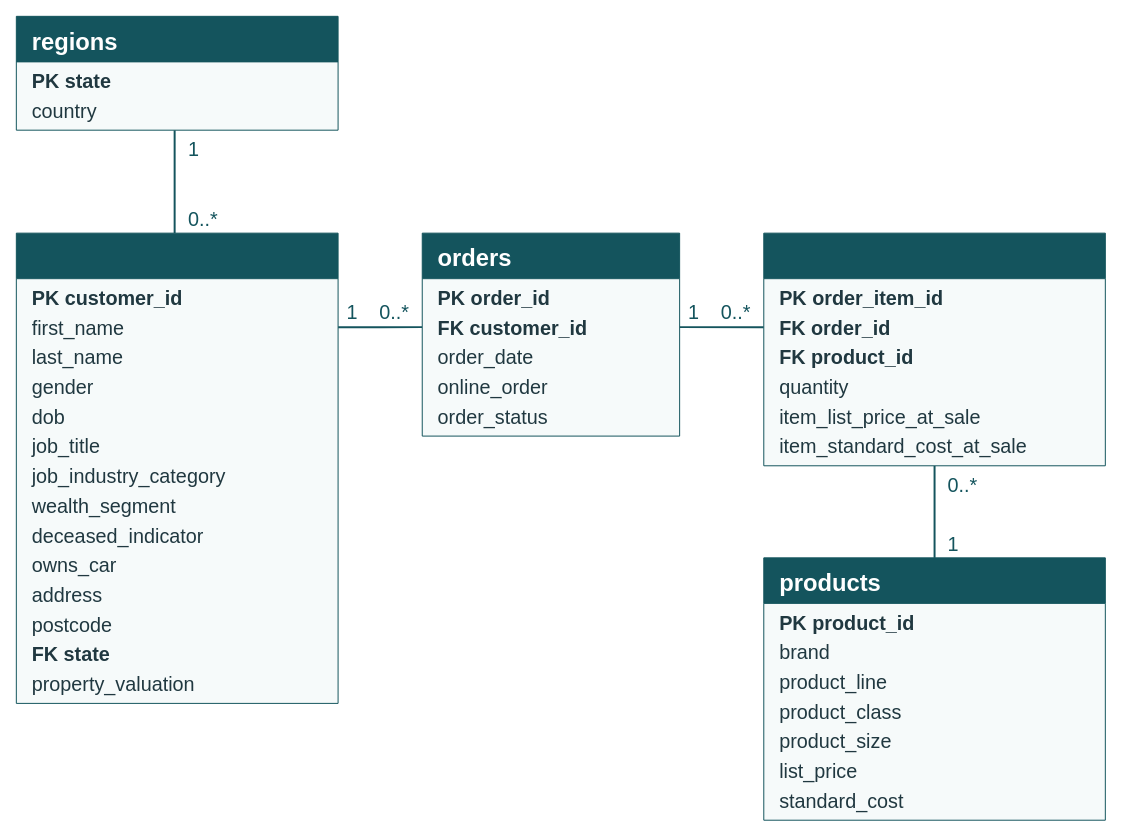
This 1122x837 diagram has some shape labels left out. Here are the shapes that lost their labels. From the top down, the box of each, then its label:
(763, 232, 1105, 466): order_items
(15, 232, 338, 703): customers
